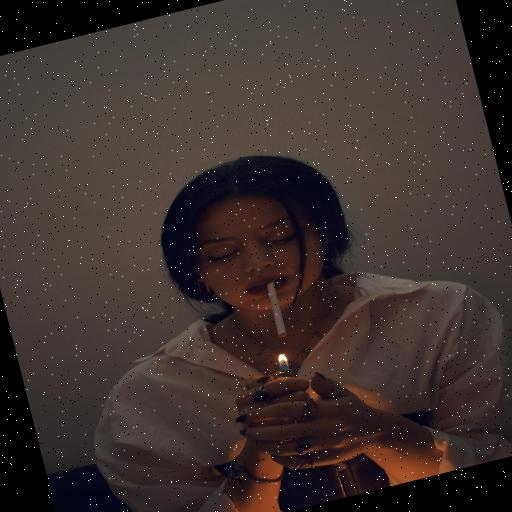terdeteksi merokok: (182, 236, 383, 424)
